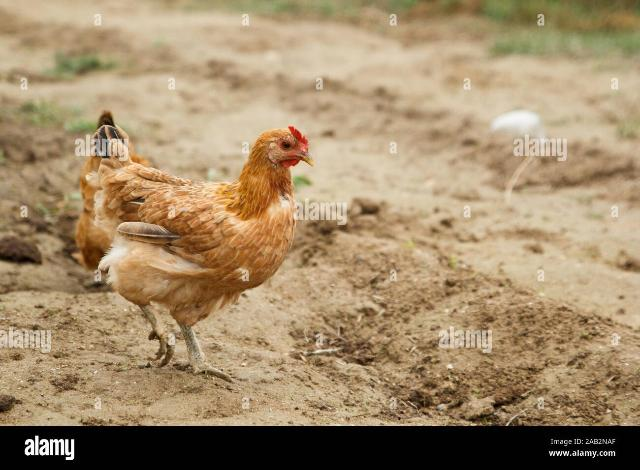Chicken: (78, 110, 313, 384)
